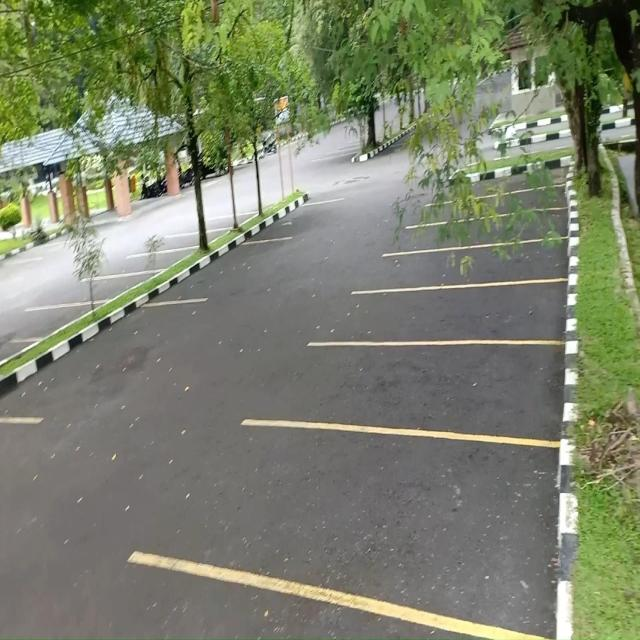empty: (255, 426, 551, 609), (331, 338, 560, 443), (372, 282, 569, 340), (394, 242, 567, 290), (191, 240, 297, 300), (2, 304, 73, 342), (61, 274, 140, 304), (122, 251, 182, 275)
